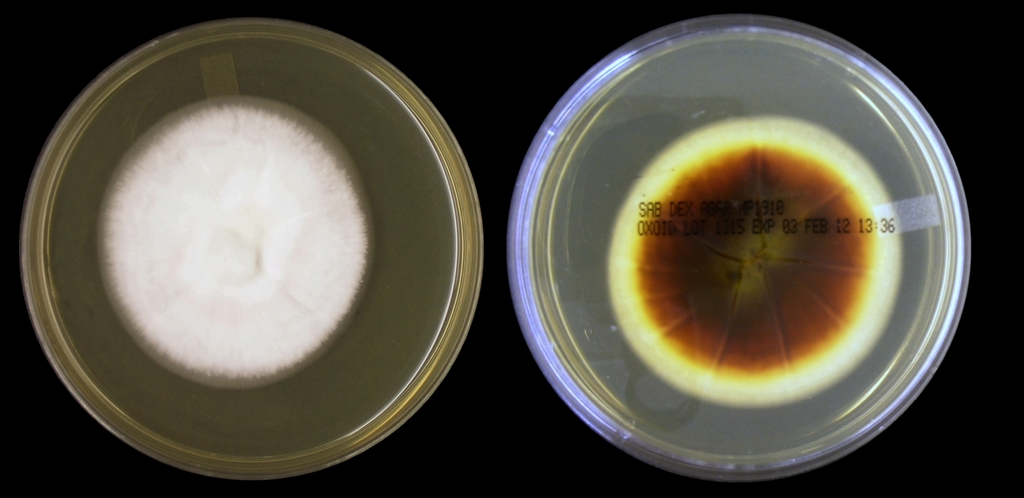Trichophyton: (109, 121, 353, 370), (635, 160, 872, 362)
